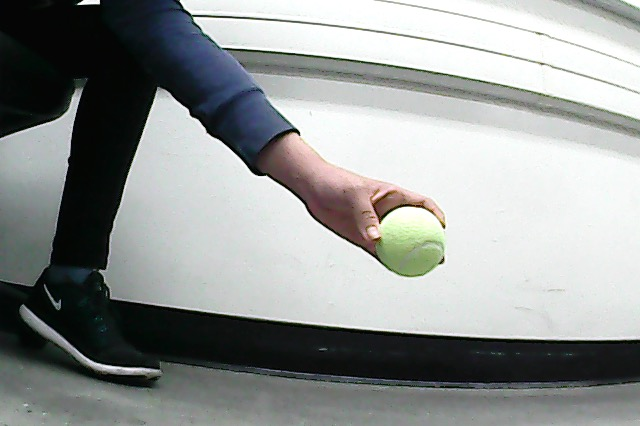ball: (373, 204, 449, 279)
